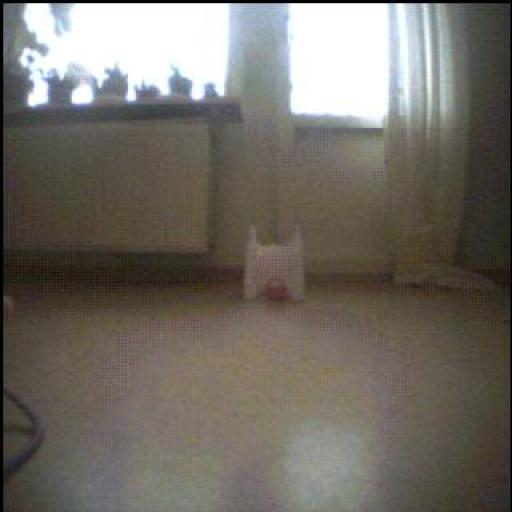Basket: (267, 279, 289, 302)
